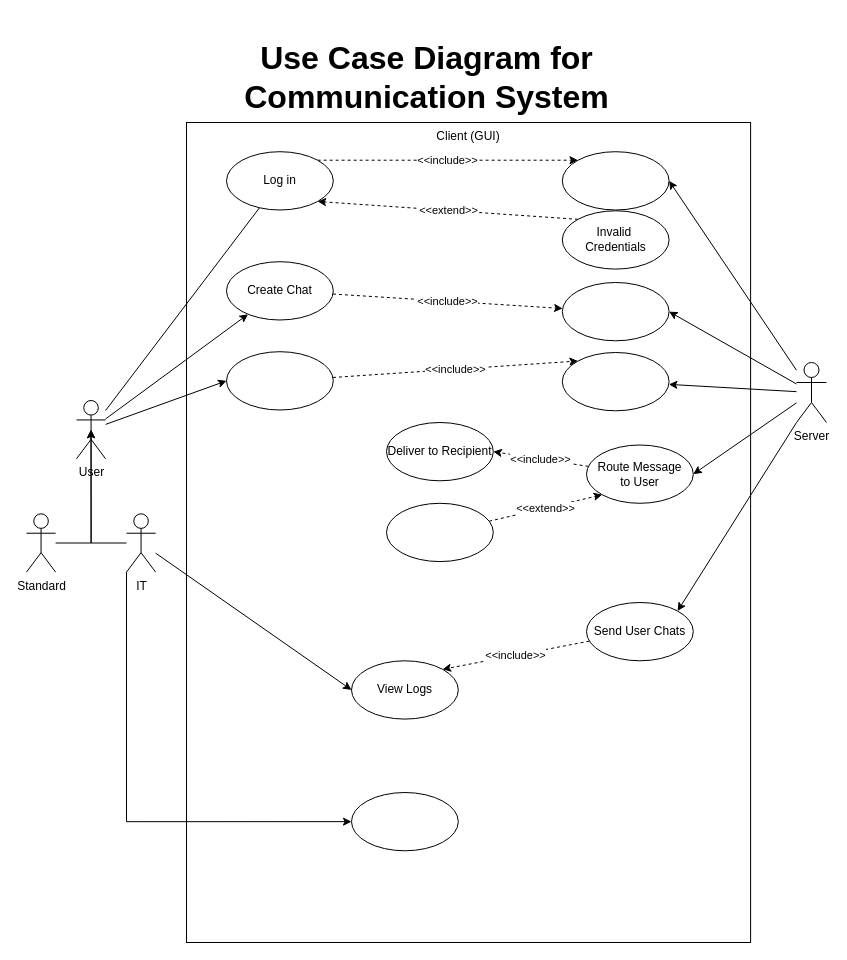
Image size: 847x960. Some labels were removed from this diagram. Each missing label, with the box of its shape:
Create Chat File: (561, 282, 669, 341)
Edit/Add a user profile: (350, 792, 458, 851)
Log Message: (561, 352, 669, 411)
Save for later Delivery: (386, 502, 493, 562)
Send Message: (226, 351, 333, 410)
Validate Credentials: (561, 151, 669, 210)
